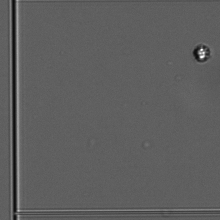Living Cell: (193, 43, 211, 63)
